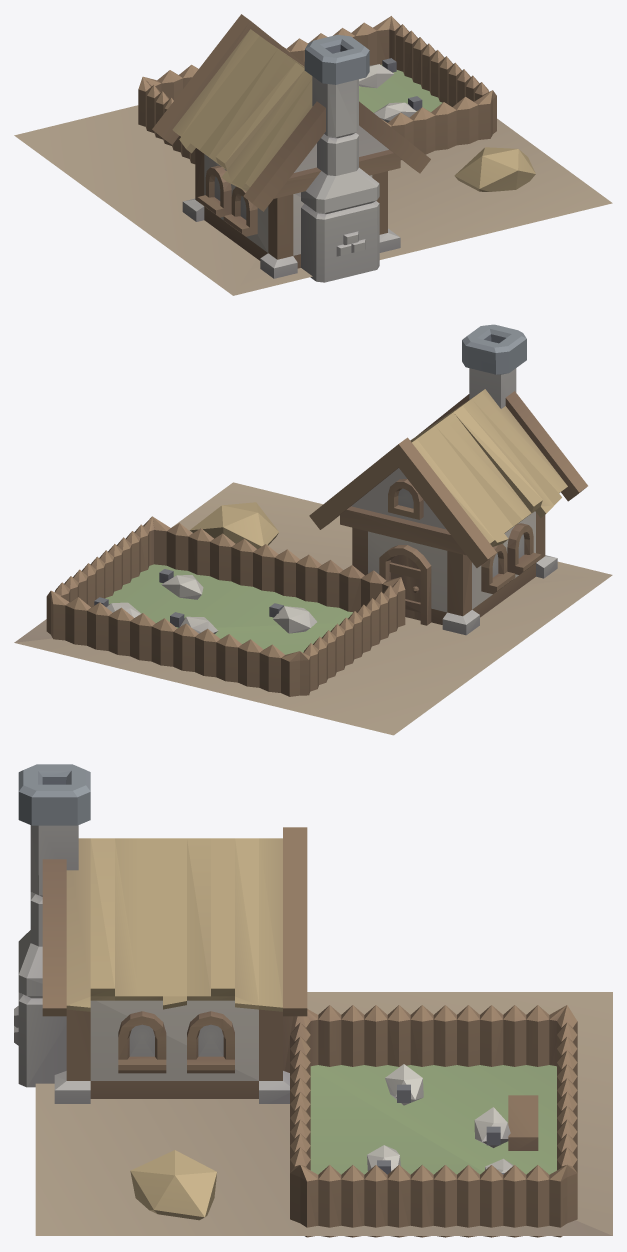
File: sheep_farm.glb
3 renders of one model, top to bottom at view 1: azimuth 30°, elevation 25°; view 2: azimuth 150°, elevation 25°; view 3: azimuth 270°, elevation 25°, orthographic. The views are drawn at different scales.
Parts seen in each view (by area): view 1: sheep_farm; view 2: sheep_farm; view 3: sheep_farm.
Part boxes in pixels (x1,y1,x2,y2): sheep_farm: [14, 14, 612, 295]; sheep_farm: [14, 324, 612, 735]; sheep_farm: [14, 764, 612, 1237].
Size of the model in its own units: 2.9 by 1.75 by 3.01.
